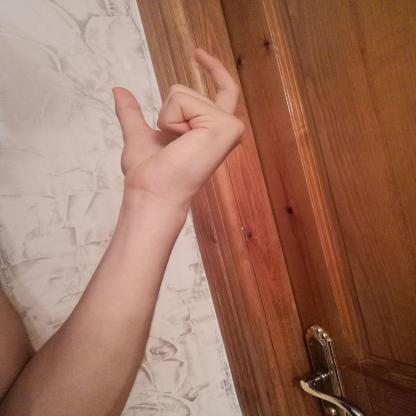NOON: (100, 38, 262, 216)
